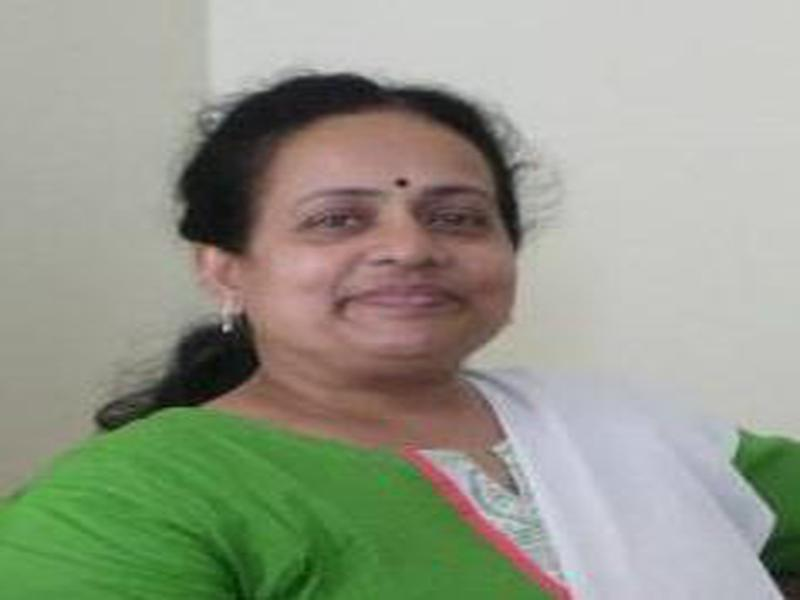without_mask: (241, 151, 526, 381)
